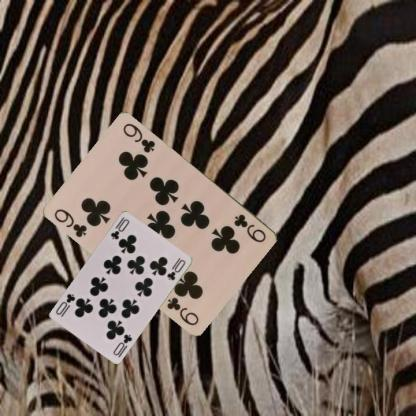10c: (110, 331, 134, 359), (108, 216, 131, 240)
9c: (231, 211, 268, 244), (51, 206, 89, 238)
